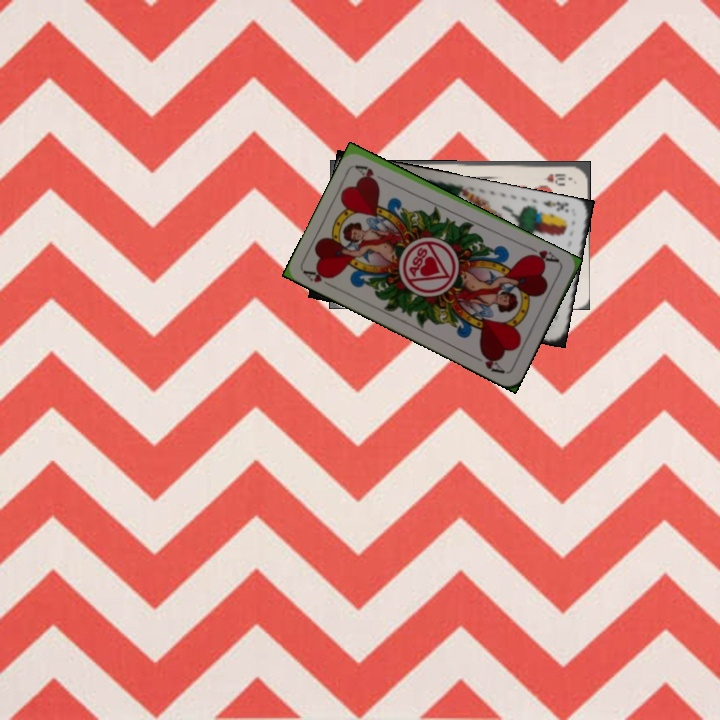EK: (539, 196, 571, 215)
H10: (539, 169, 569, 184)
HA: (301, 265, 339, 291), (523, 242, 562, 266)
